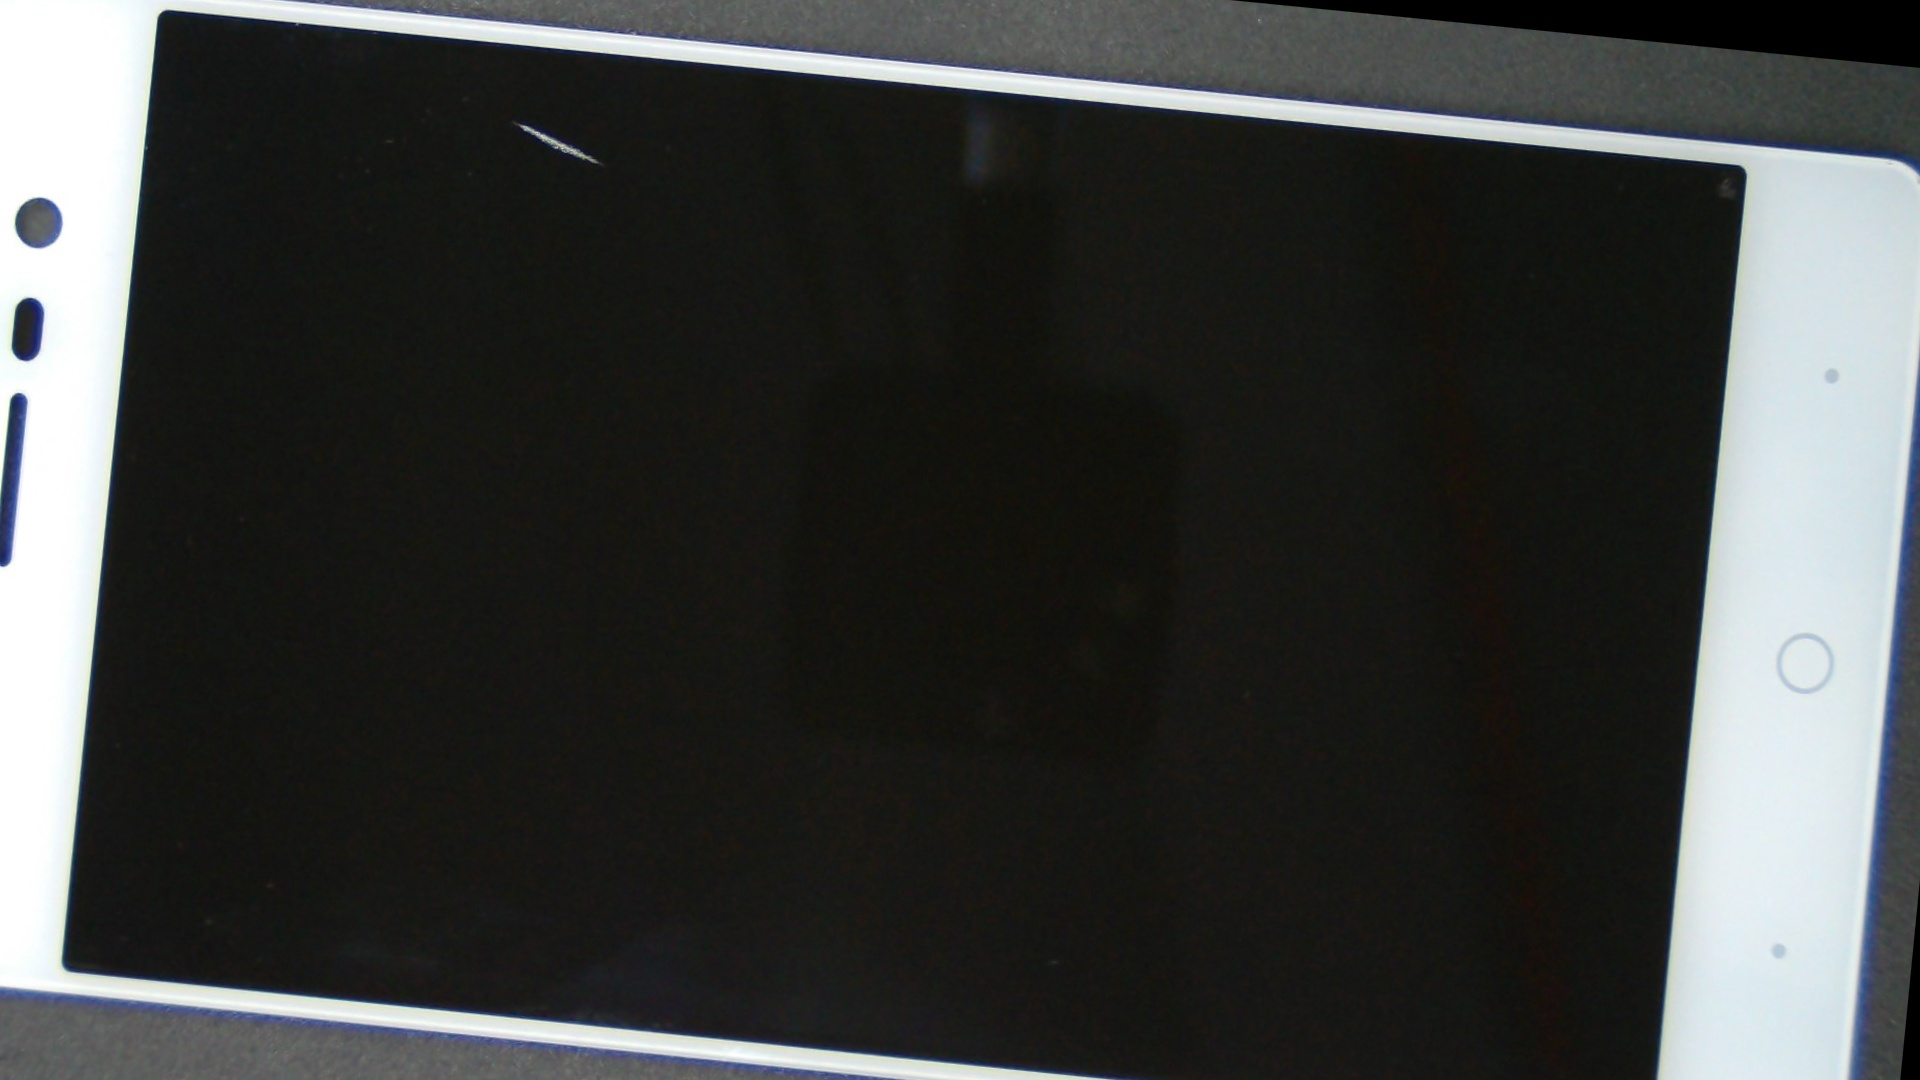oil: (214, 0, 819, 245)
